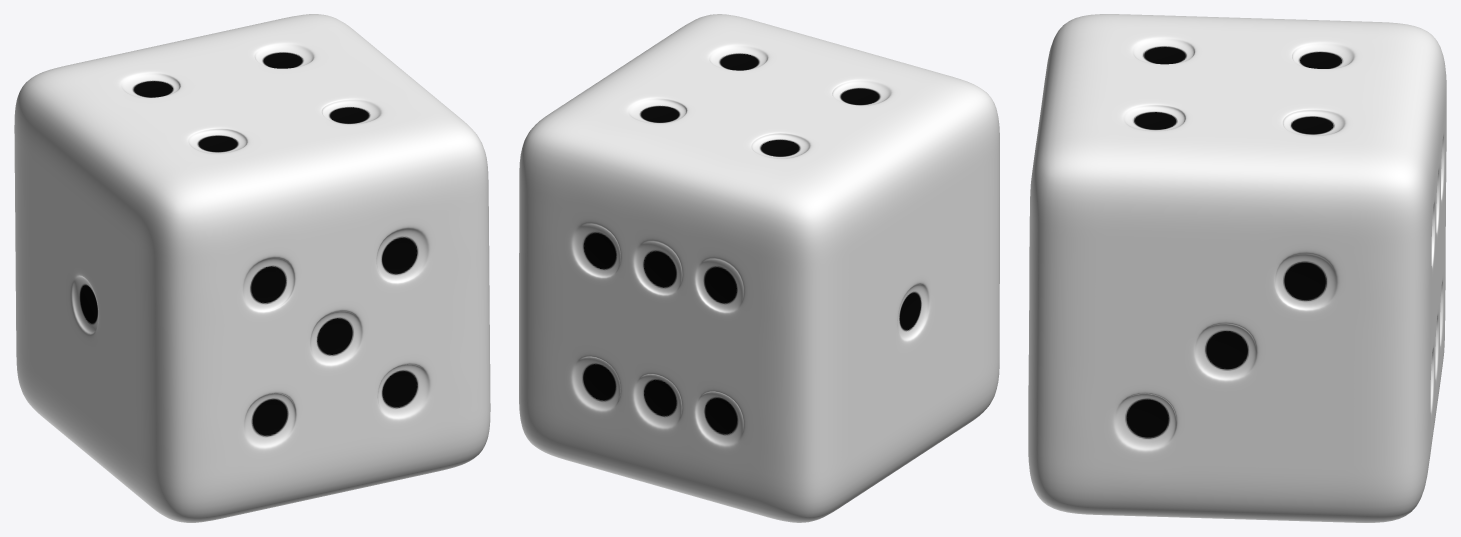
Rendered from dice.gltf.
3 renders of one model, left to right at view 1: azimuth 30°, elevation 25°; view 2: azimuth 150°, elevation 25°; view 3: azimuth 270°, elevation 25°, orthographic. The views are drawn at different scales.
Parts seen in each view (by area): view 1: pCube1; view 2: pCube1; view 3: pCube1.
Part boxes in pixels (x1,y1,x2,y2): pCube1: (14,14,490,522); pCube1: (519,14,999,522); pCube1: (1028,14,1446,522).
Bounding box in the file's own units: 4.13 × 3.99 × 4.13.
1 material, 1 textured.
